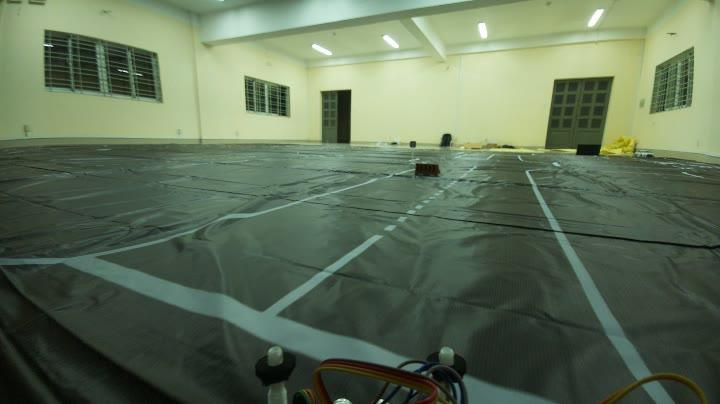roadblock: (409, 158, 448, 182)
